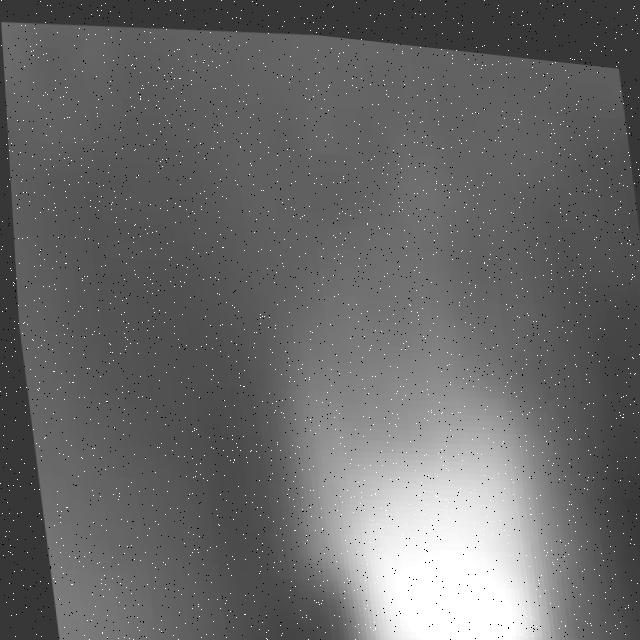person: (249, 240, 559, 640)
